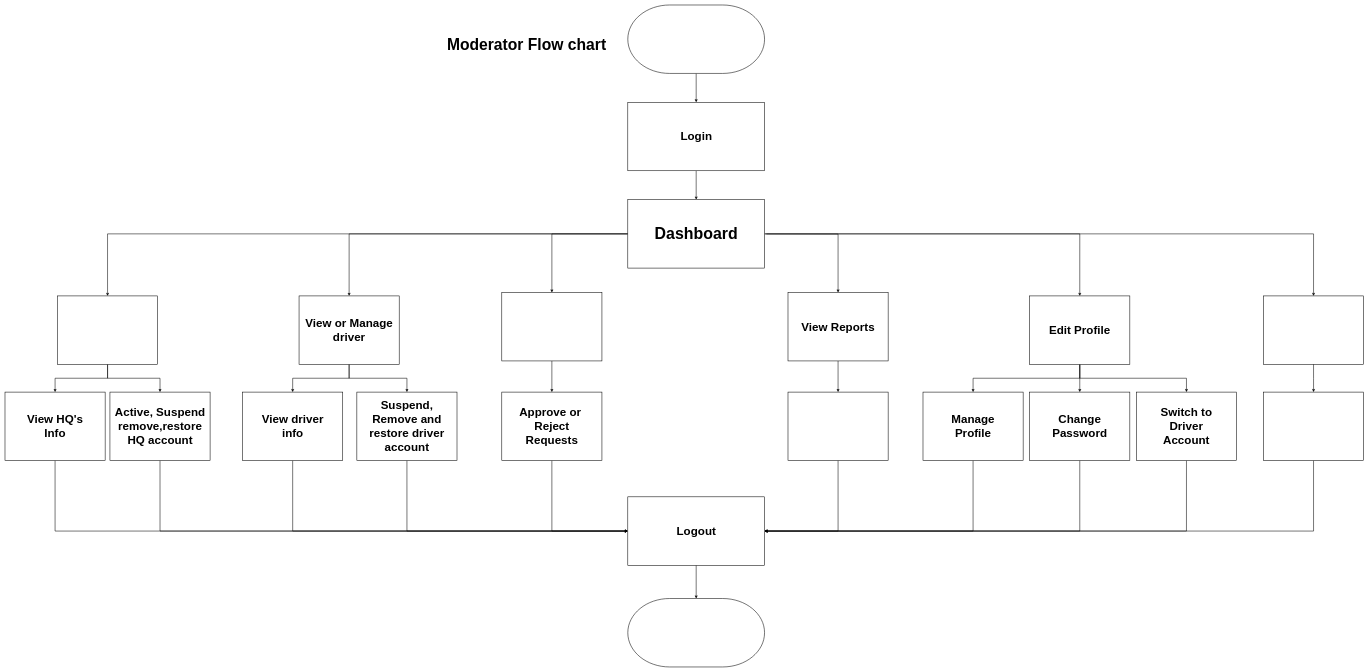
The diagram is 1368 pixels wide and 672 high, and some of its shapes have lost their labels. The shapes that lost their labels are listed below. From the top down, each one's centre as x and y in pixels, then its label:
At (x=696, y=39): "Start".
At (x=107, y=330): "View or Manage HQ (company)".
At (x=551, y=326): "View Requests".
At (x=1313, y=330): "View Log files".
At (x=838, y=426): "Download reports file or Delete".
At (x=1313, y=426): "Export CSV".
At (x=696, y=632): "End".
